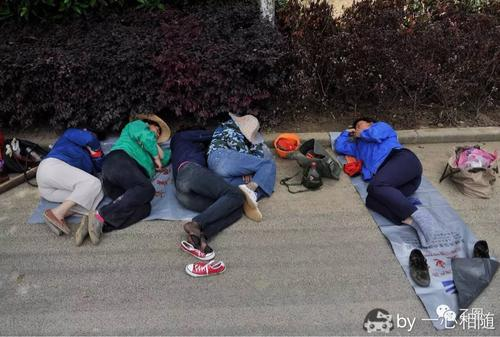fall: (318, 108, 459, 261)
